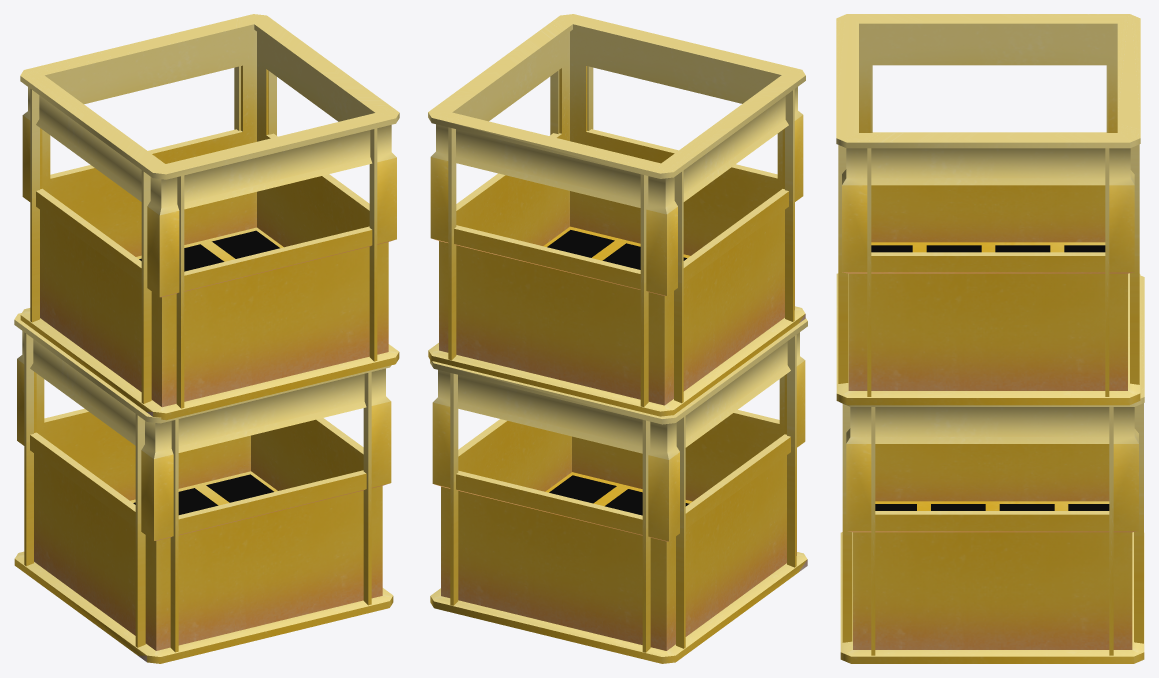
The model's file is beercase_1.fbx.
The picture shows the model from 3 angles, left to right: view 1: azimuth 30°, elevation 25°; view 2: azimuth 150°, elevation 25°; view 3: azimuth 270°, elevation 25°; orthographic projection. The views are drawn at different scales.
Parts seen in each view (by area): view 1: beercase_1; view 2: beercase_1; view 3: beercase_1.
Boxes of the visible parts, left/top/right/bottom form: beercase_1: left=14, top=14, right=399, bottom=663; beercase_1: left=428, top=14, right=807, bottom=663; beercase_1: left=836, top=14, right=1144, bottom=663.
Bounding box in the file's own units: 44.59 × 44.49 × 83.31.
Materials: 1 (1 with a texture image).
